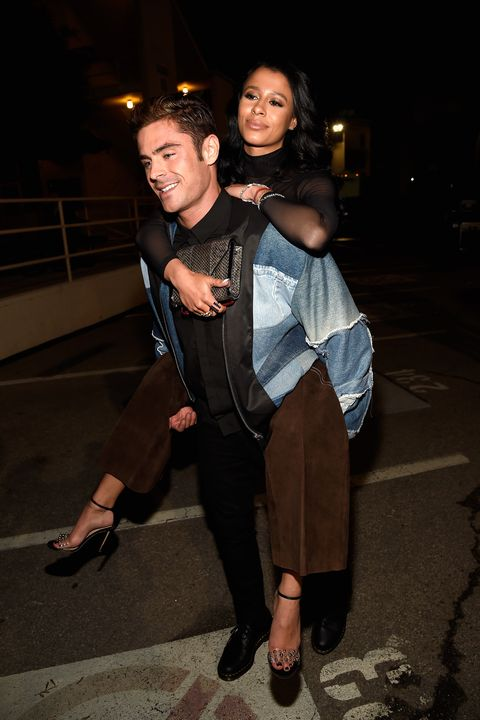Person: (137, 93, 376, 683)
